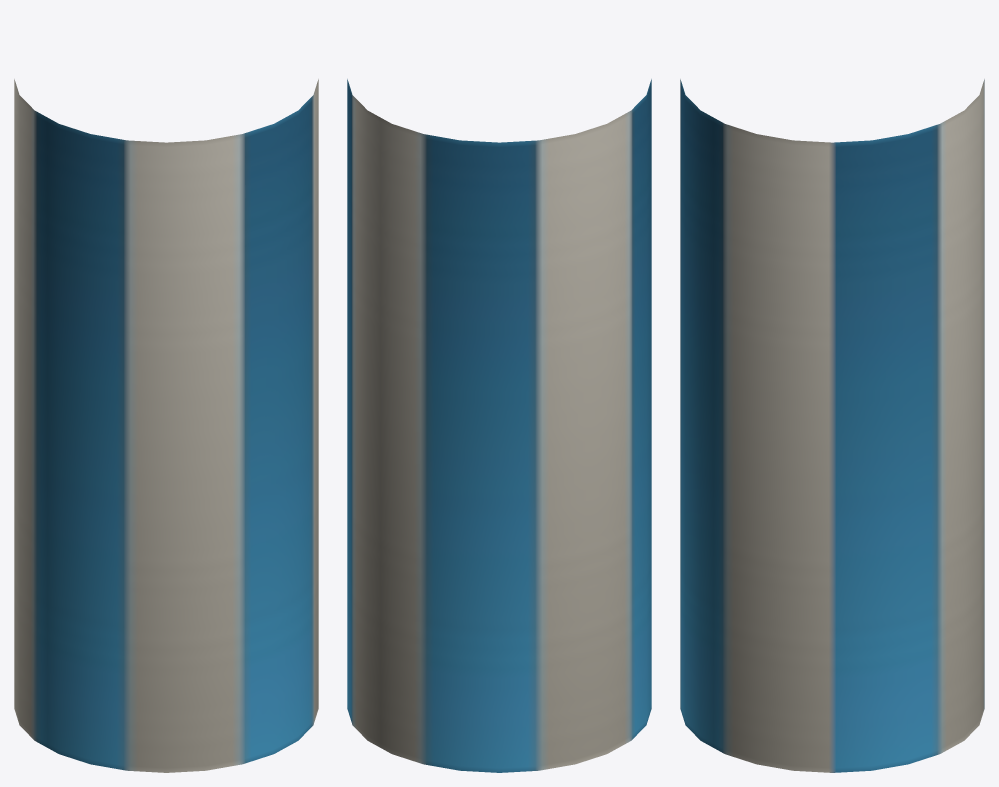
File: pillar.glb
3 renders of one model, left to right at view 1: azimuth 30°, elevation 25°; view 2: azimuth 150°, elevation 25°; view 3: azimuth 270°, elevation 25°, orthographic.
Parts seen in each view (by area): view 1: pillar; view 2: pillar; view 3: pillar.
Boxes of the visible parts, x1=… form: pillar: x1=14, y1=79, x2=318, y2=772; pillar: x1=347, y1=79, x2=651, y2=772; pillar: x1=680, y1=79, x2=984, y2=772.
Size of the model in its own units: 0.7 by 1.6 by 0.7.
Materials: 1 (1 with a texture image).
